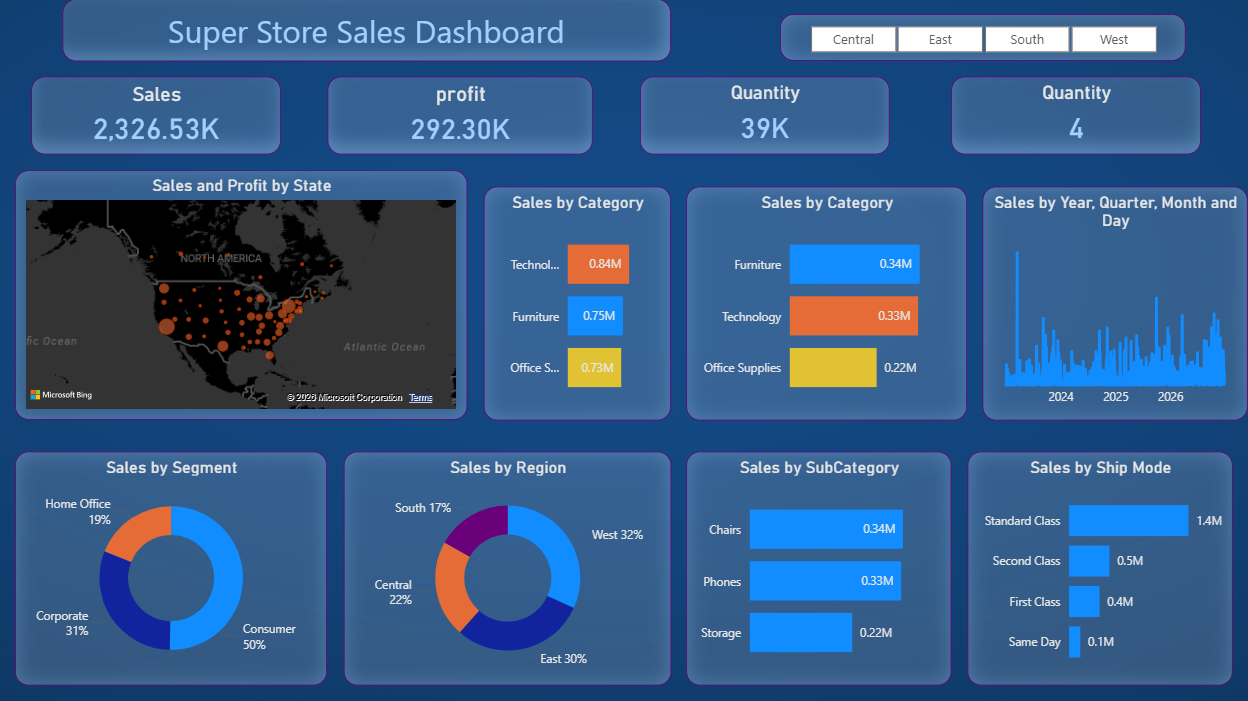

This screenshot's page, from the dashboard's own definition file:
{"tool":"powerbi","page":{"name":"Page 1","canvas":[1280,720],"ordinal":0},"visuals":[{"type":"clusteredBarChart","title":"Sales by Category","fields":{"Category":["Orders.Category"],"Y":["Sum(Orders.Sales)"]},"box":[496,192,192,240],"z":0},{"type":"clusteredBarChart","title":"Sales by SubCategory","fields":{"Category":["Orders.Sub-Category"],"Y":["Sum(Orders.Sales)"]},"box":[704,464,272,240],"z":1000},{"type":"clusteredBarChart","title":"Sales by Ship Mode","fields":{"Category":["Orders.Ship Mode"],"Y":["Sum(Orders.Sales)"]},"box":[992,464,272,240],"z":2000},{"type":"map","title":" Sales and Profit by State","fields":{"Category":["Orders.State/Province"],"Size":["Sum(Orders.Sales)"]},"box":[16,176,464,256],"z":3000},{"type":"donutChart","title":"Sales by Segment","fields":{"Category":["Orders.Segment"],"Y":["Sum(Orders.Sales)"]},"box":[16,464,320,240],"z":4000},{"type":"donutChart","title":"Sales by Region","fields":{"Category":["Orders.Region"],"Y":["Sum(Orders.Sales)"]},"box":[352,464,336,240],"z":5000},{"type":"slicer","fields":{"Values":["Orders.Region"]},"box":[800,16,416,48],"z":6000},{"type":"textbox","box":[64,0,624,64],"z":7000},{"type":"card","title":"Sales","fields":{"Values":["Sum(Orders.Sales)"]},"box":[32,80,256,80],"z":8000},{"type":"card","title":"profit","fields":{"Values":["Sum(Orders.Profit)"]},"box":[336,80,272,80],"z":9000},{"type":"card","title":"Quantity","fields":{"Values":["Sum(Orders.Quantity)"]},"box":[656,80,256,80],"z":10000},{"type":"card","title":"Quantity","fields":{"Values":["Avg(Orders.AvgDelivery)"]},"box":[976,80,256,80],"z":11000},{"type":"clusteredBarChart","title":"Sales by Category","fields":{"Category":["Orders.Category"],"Y":["Sum(Orders.Sales)"]},"box":[704,192,288,240],"z":12000},{"type":"lineChart","title":"Sales by Year, Quarter, Month and Day","fields":{"Y":["Sum(salesforecast.Total Sales)"],"Category":["salesforecast.Date.Variation.Date Hierarchy.Year","salesforecast.Date.Variation.Date Hierarchy.Quarter","salesforecast.Date.Variation.Date Hierarchy.Month","salesforecast.Date.Variation.Date Hierarchy.Day"]},"box":[1008,192,272,240],"z":13000}]}

Visuals, with their boxes in screenshot pixels (x1, y1, x2, y2), scaled from the page's 1280x720 canvas onto the 1248x701 screenshot:
"Sales by Category" clusteredBarChart: 484, 187, 671, 421
"Sales by SubCategory" clusteredBarChart: 686, 452, 952, 685
"Sales by Ship Mode" clusteredBarChart: 967, 452, 1232, 685
" Sales and Profit by State" map: 16, 171, 468, 421
"Sales by Segment" donutChart: 16, 452, 328, 685
"Sales by Region" donutChart: 343, 452, 671, 685
slicer - Orders.Region: 780, 16, 1186, 62
textbox: 62, 0, 671, 62
"Sales" card: 31, 78, 281, 156
"profit" card: 328, 78, 593, 156
"Quantity" card: 640, 78, 889, 156
"Quantity" card: 952, 78, 1201, 156
"Sales by Category" clusteredBarChart: 686, 187, 967, 421
"Sales by Year, Quarter, Month and Day" lineChart: 983, 187, 1247, 421
